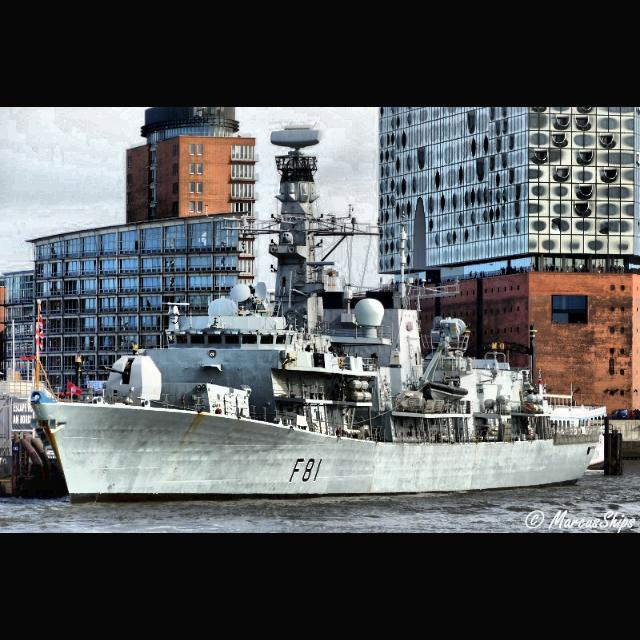combat_vessel: (29, 126, 608, 507)
